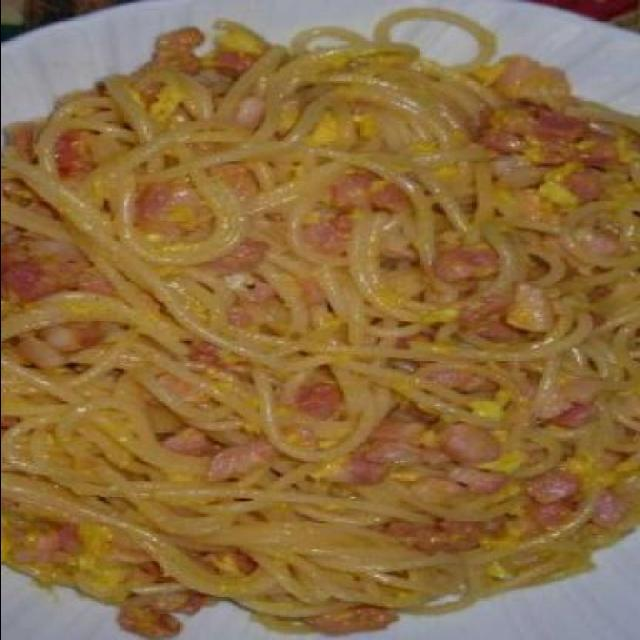Pasta with carbonara sauce: (20, 49, 632, 616)
